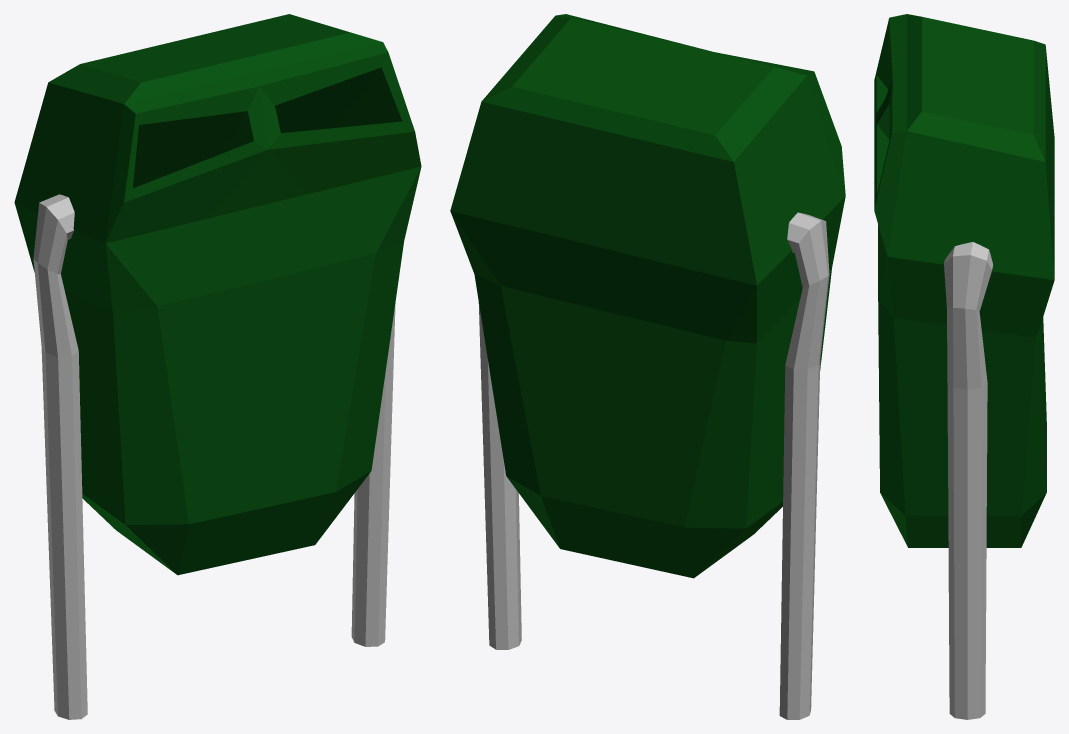
File: prullenbak.fbx
The picture shows the model from 3 angles, left to right: view 1: azimuth 30°, elevation 25°; view 2: azimuth 150°, elevation 25°; view 3: azimuth 270°, elevation 25°; orthographic projection. The views are drawn at different scales.
Visible parts, largest first — view 1: Cube; view 2: Cube; view 3: Cube.
Boxes of the visible parts, left/top/right/bottom form: Cube: left=14, top=14, right=421, bottom=719; Cube: left=450, top=14, right=845, bottom=719; Cube: left=874, top=14, right=1054, bottom=719.
Size of the model in its own units: 0.75 by 1.25 by 0.35.
